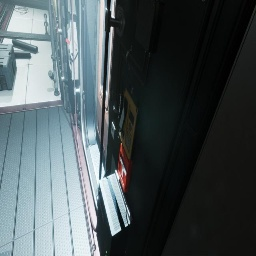EmergencyPhone ,: (118, 70, 141, 161)
FireAlarm ,: (118, 142, 132, 193)
SafetySwitchPanel ,: (66, 12, 79, 80)
